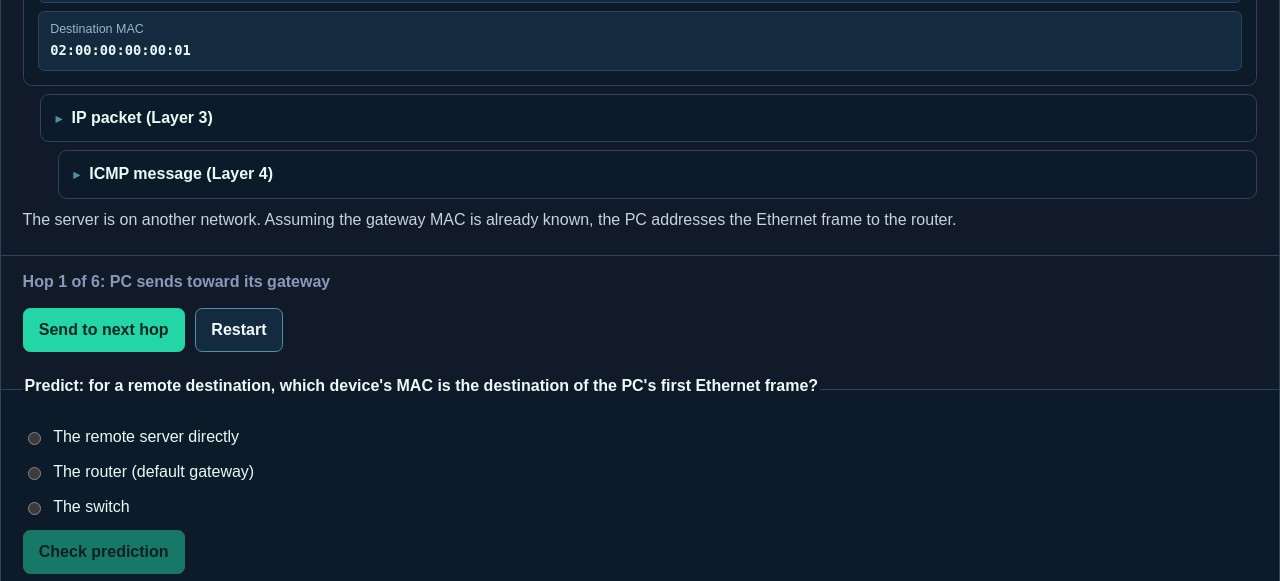
Test: PacketJourneyLab › lets the user step hop by hop and unfold the packet to see what changed
(page scrolled)
Check: the text "which device's MAC is the destination" is shown, box top-left (25, 377), bottom-right (818, 394)
Click the button "Send to next hop": {"x": 104, "y": 330} top-left (23, 308), bottom-right (185, 352)
(page scrolled)
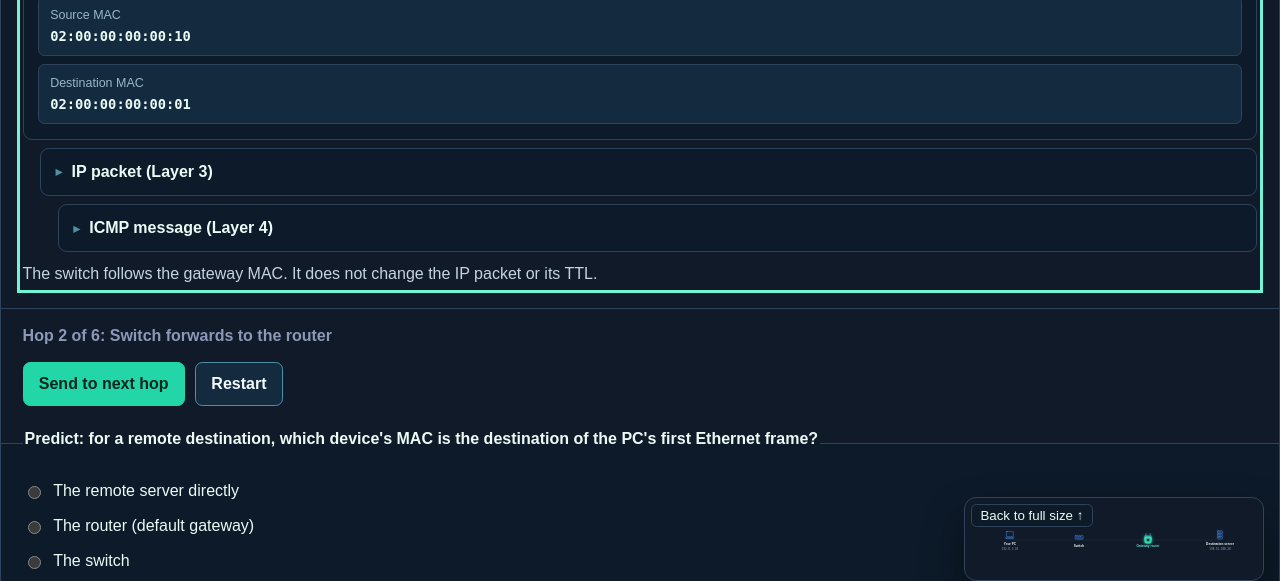
Check: the message shows "Switch forwards to the router", box top-left (110, 327), bottom-right (332, 344)
Click the button "Send to next hop": {"x": 104, "y": 384} top-left (23, 362), bottom-right (185, 406)
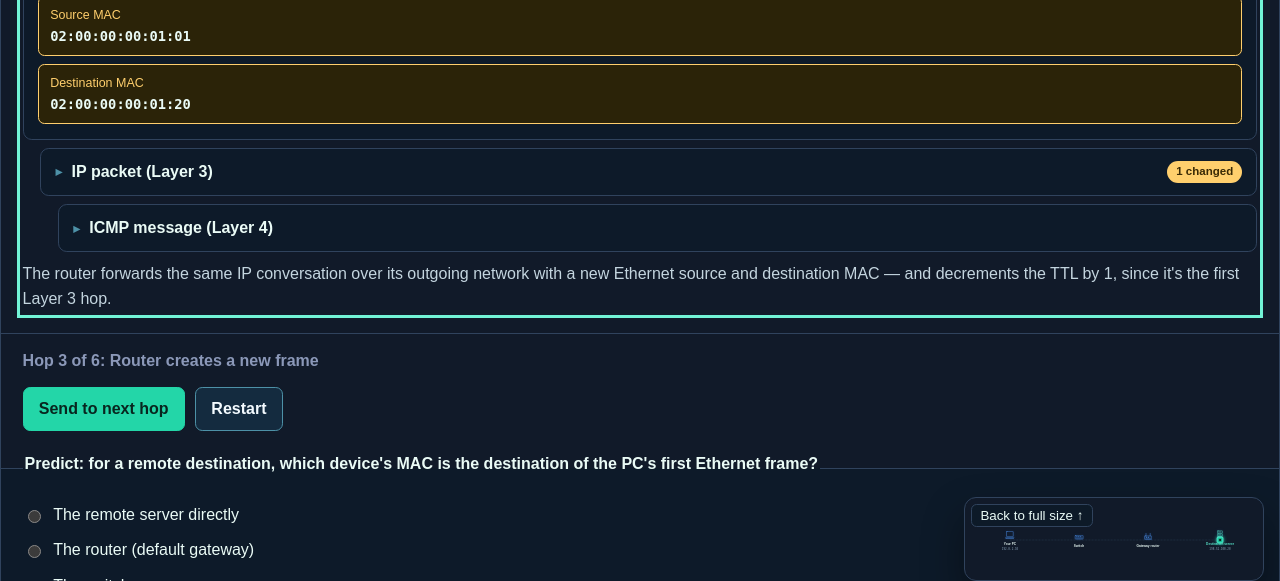
Check: the message shows "Router creates a new frame", box top-left (110, 352), bottom-right (319, 368)
Click the button "▸ IP packet (Layer 3) 1 changed": {"x": 142, "y": 171} top-left (41, 149), bottom-right (1256, 195)
(page scrolled)
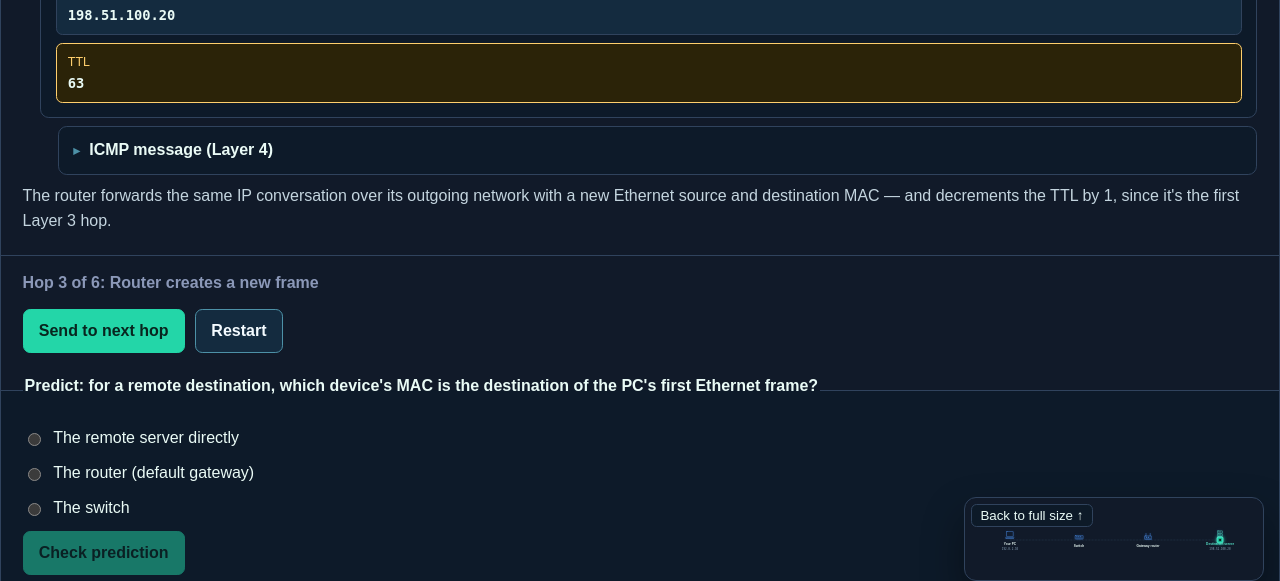
Check: the text "63" is shown, box top-left (68, 75), bottom-right (84, 91)
Click the button "Restart": {"x": 239, "y": 331} top-left (195, 309), bottom-right (283, 353)
(page scrolled)
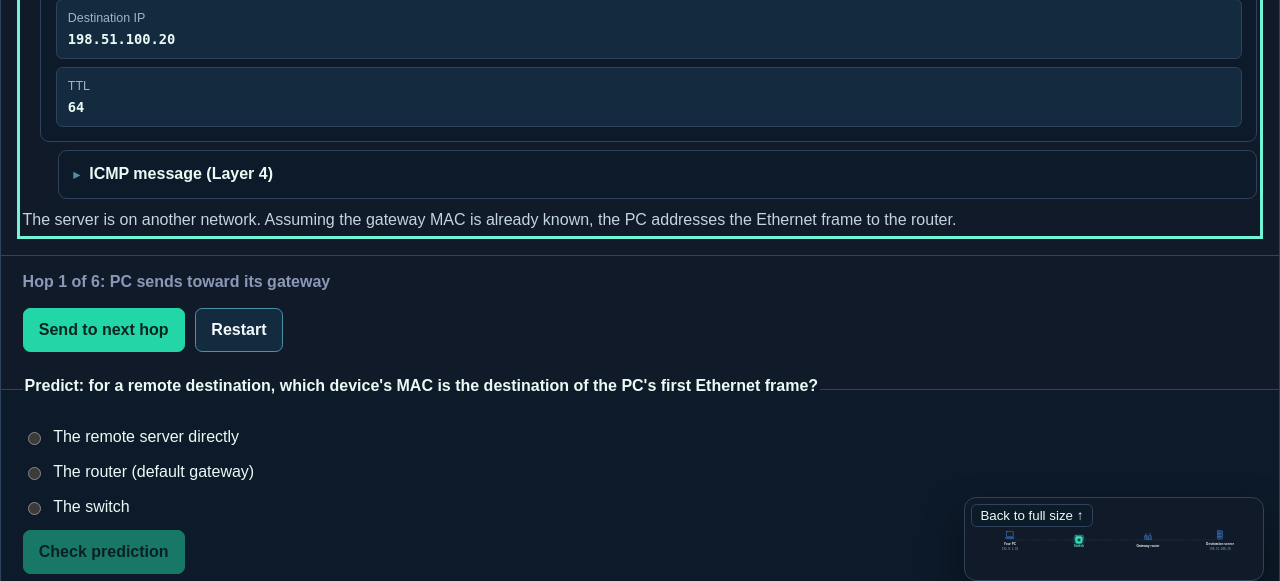
Check: the message shows "PC sends toward its gateway", box top-left (110, 273), bottom-right (330, 290)
Click the radio button labelled "The router (default gateway)": {"x": 34, "y": 474} top-left (28, 467), bottom-right (41, 480)
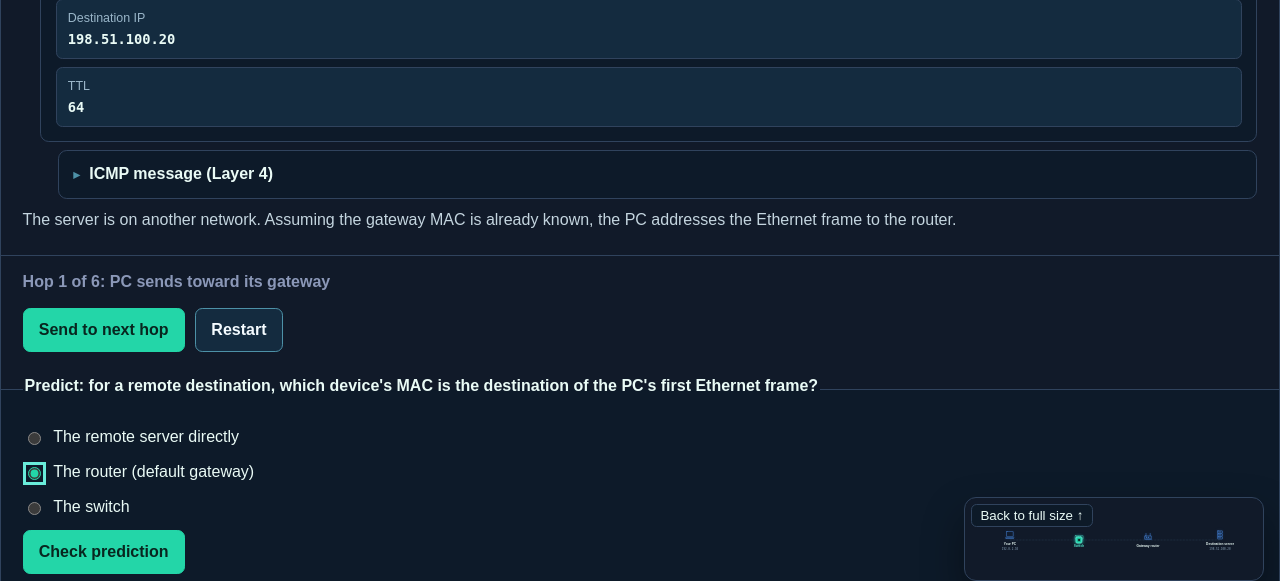
Click the button "Check prediction": {"x": 104, "y": 552} top-left (23, 530), bottom-right (185, 574)
(page scrolled)
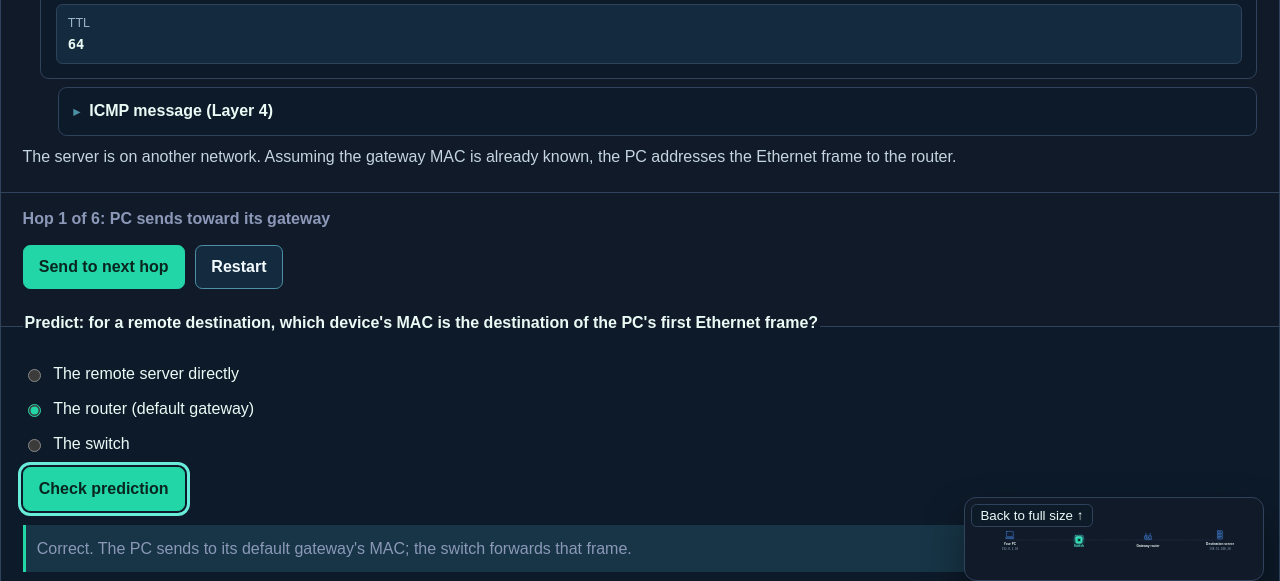
Check: the message named "Prediction feedback" shows "Correct", box top-left (37, 540), bottom-right (632, 556)
